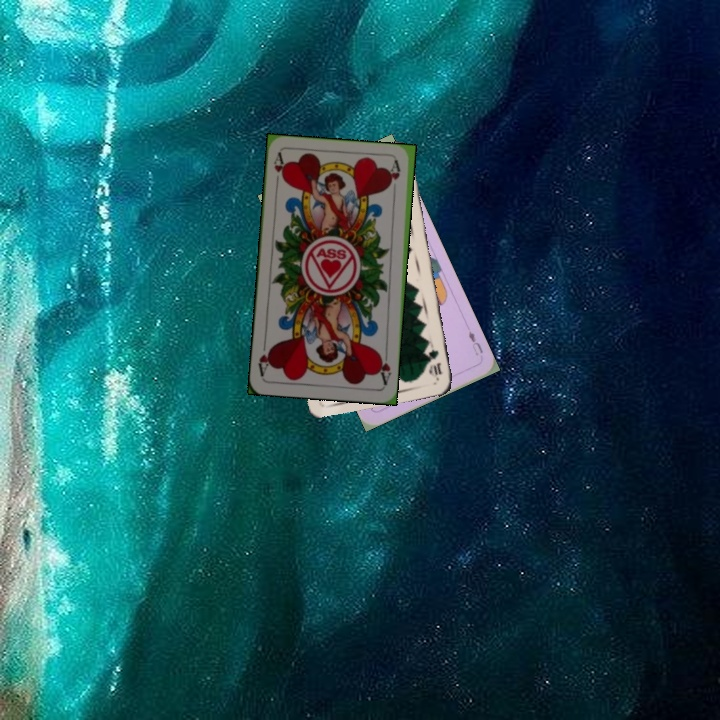EU: (464, 327, 486, 359)
G10: (424, 345, 444, 381)
HA: (374, 347, 394, 388), (270, 150, 288, 190)
